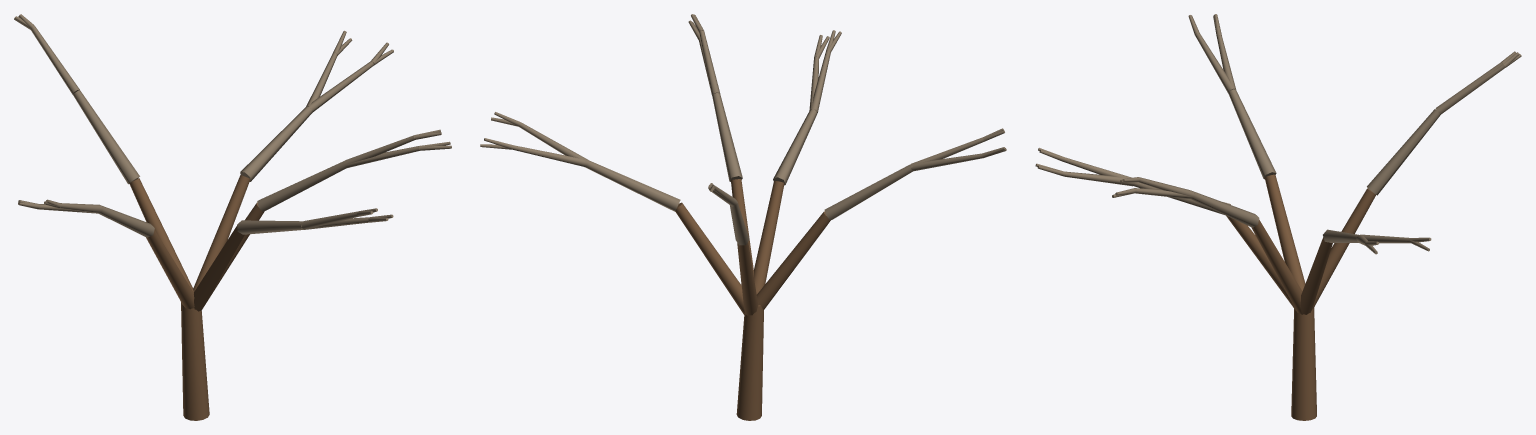
File: acer-buergerianum-tel.glb
3 renders of one model, left to right at view 1: azimuth 30°, elevation 25°; view 2: azimuth 150°, elevation 25°; view 3: azimuth 270°, elevation 25°, orthographic. The views are drawn at different scales.
Visible parts, largest first — view 1: torzs, foag-2, gally-3-1, foag-3, foag-1, gally-1-1, foag-4, gally-4-1, gally-1-2 (×2), gally-4-2 (×2), gally-2-1, gally-0-1 (+3 smaller); view 2: torzs, foag-2, foag-1, foag-3, gally-1-1, gally-0-1, gally-4-1, gally-1-2 (×2), foag-4, gally-2-1, foag-5, gally-0-2 (+2 smaller); view 3: torzs, foag-1, foag-5, foag-4, gally-3-1, gally-0-1, foag-2, foag-3, gally-4-1, gally-0-2.
Part boxes in pixels (x1,y1,x2,y2): torzs: [181, 302, 209, 420]; foag-2: [193, 175, 249, 291]; gally-3-1: [73, 90, 139, 184]; foag-3: [194, 226, 244, 311]; foag-1: [146, 230, 194, 309]; gally-1-1: [240, 106, 312, 181]; foag-4: [129, 178, 193, 292]; gally-4-1: [257, 161, 346, 211]; gally-1-2 (×2): [306, 53, 373, 112]; gally-4-2 (×2): [344, 135, 419, 167]; gally-2-1: [237, 220, 303, 234]; gally-0-1: [99, 205, 154, 237]; torzs: [736, 305, 763, 420]; foag-2: [675, 202, 744, 315]; foag-1: [756, 211, 830, 309]; foag-3: [754, 181, 784, 294]; gally-1-1: [585, 160, 680, 211]; gally-0-1: [824, 164, 912, 220]; gally-4-1: [712, 92, 742, 181]; gally-1-2 (×2): [512, 122, 587, 167]; foag-4: [737, 242, 758, 315]; gally-2-1: [773, 109, 817, 185]; foag-5: [731, 179, 753, 284]; gally-0-2: [911, 153, 982, 171]; torzs: [1291, 307, 1316, 420]; foag-1: [1265, 174, 1305, 290]; foag-5: [1251, 219, 1302, 314]; foag-4: [1312, 188, 1375, 309]; gally-3-1: [1367, 109, 1440, 195]; gally-0-1: [1228, 89, 1276, 179]; foag-2: [1300, 237, 1332, 314]; foag-3: [1226, 215, 1296, 311]; gally-4-1: [1191, 191, 1259, 227]; gally-0-2: [1195, 32, 1235, 93].
Size of the model in its own units: 8.39 by 5.95 by 7.88.
